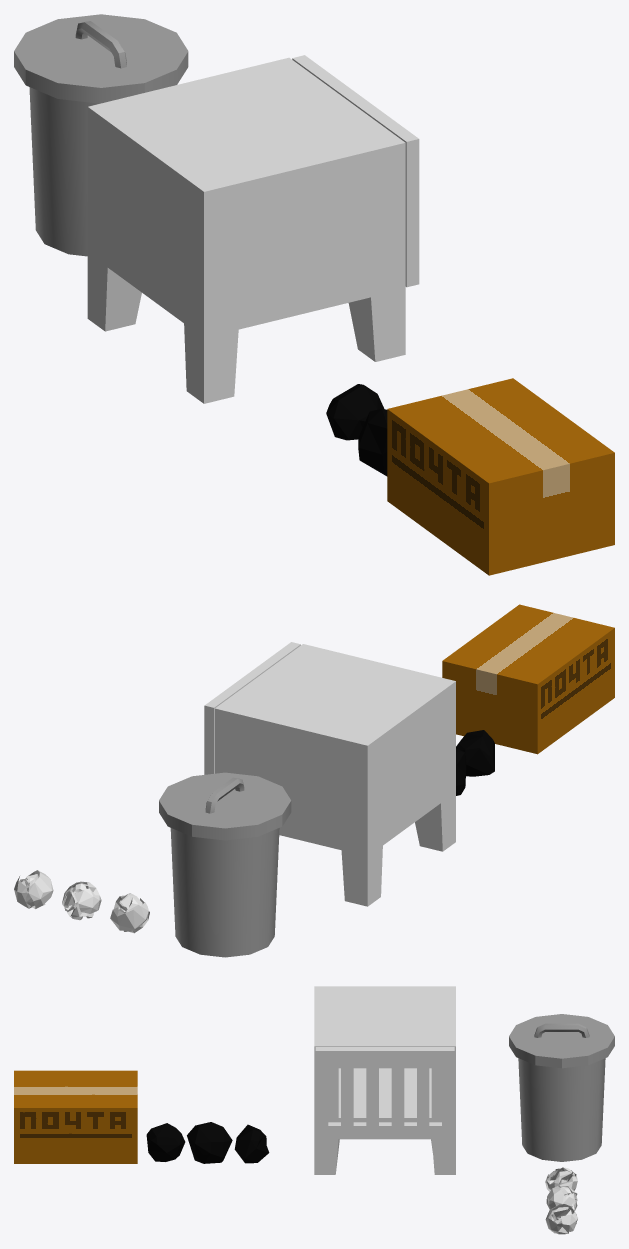
Rendered from CommsDownAssets1.fbx.
3 renders of one model, top to bottom at view 1: azimuth 30°, elevation 25°; view 2: azimuth 150°, elevation 25°; view 3: azimuth 270°, elevation 25°, orthographic. The views are drawn at different scales.
Visible parts, largest first — view 1: Furnace, Box, Trash Can Lid, Trash Can, Furnace Door, Coal.001, Coal.002; view 2: Furnace, Box, Trash Can, Trash Can Lid, Furnace Door, Coal, Paper.001, Paper, Paper.002; view 3: Furnace, Box, Furnace Door, Trash Can, Trash Can Lid, Coal.002, Coal, Coal.001, Paper.002, Paper.001, Paper.
Part boxes in pixels (box(x1,y1,x2,y2)): Furnace: box(87, 57, 405, 403); Box: box(387, 378, 614, 575); Trash Can Lid: box(14, 14, 188, 103); Trash Can: box(29, 87, 99, 256); Furnace Door: box(292, 55, 419, 287); Coal.001: box(326, 384, 384, 440); Coal.002: box(358, 408, 387, 476); Furnace: box(215, 644, 455, 906); Box: box(442, 604, 614, 754); Trash Can: box(170, 828, 279, 957); Trash Can Lid: box(159, 772, 291, 840); Furnace Door: box(204, 642, 300, 774); Coal: box(456, 730, 494, 776); Paper.001: box(62, 881, 101, 920); Paper: box(110, 893, 149, 933); Paper.002: box(14, 870, 53, 908); Furnace: box(314, 986, 455, 1174); Box: box(14, 1070, 137, 1163); Furnace Door: box(315, 1047, 454, 1139); Trash Can: box(518, 1058, 605, 1161); Trash Can Lid: box(509, 1014, 614, 1068); Coal.002: box(187, 1122, 232, 1163); Coal: box(146, 1123, 185, 1161); Coal.001: box(234, 1124, 269, 1163); Paper.002: box(545, 1204, 577, 1234); Paper.001: box(546, 1186, 577, 1210); Paper: box(545, 1167, 577, 1191).
Bounding box in the file's own units: 597 × 367 × 1360.
